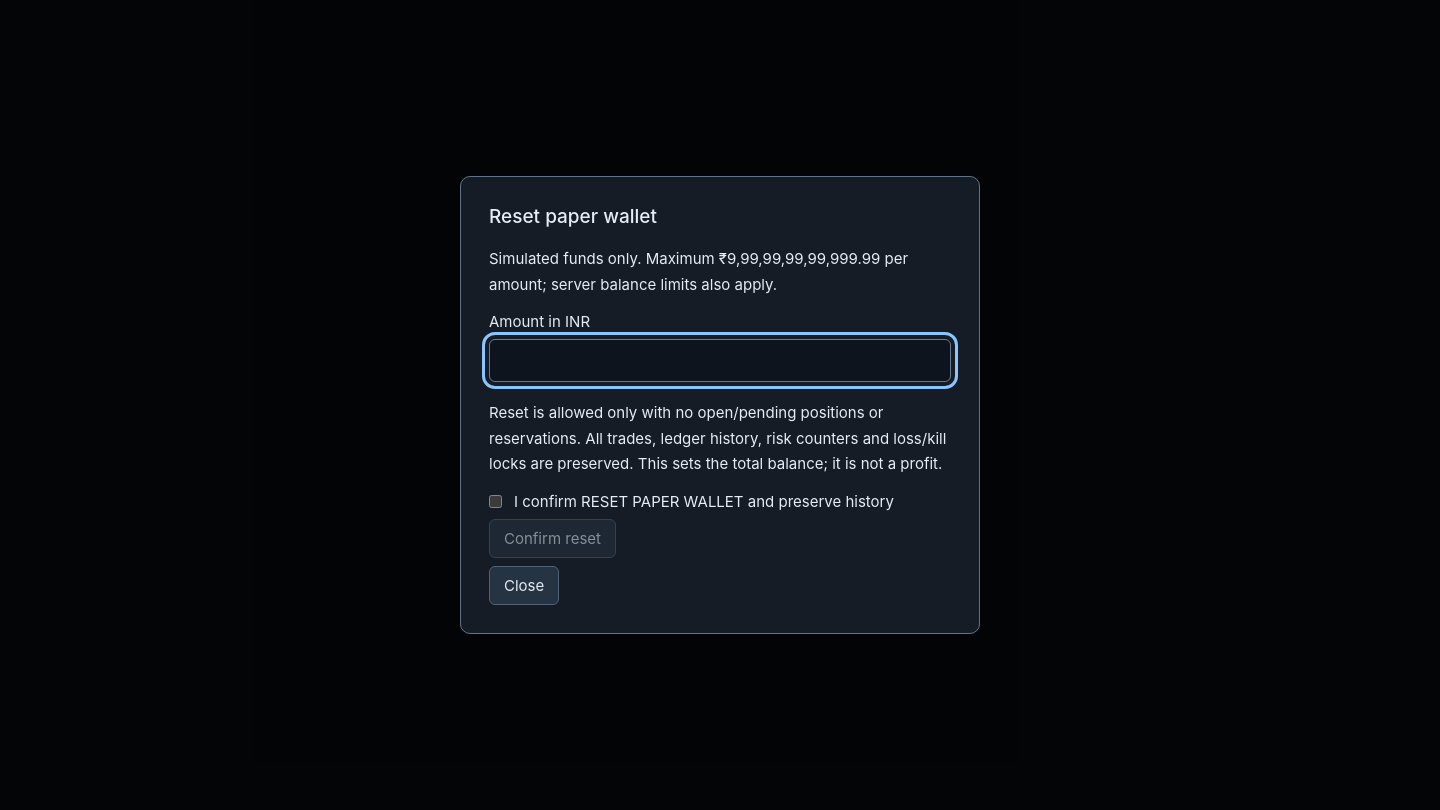
it: requires reset confirmation, permits zero and sends the exact API confirmation
Type "0.00" into the field labelled "Amount in INR" at {"x": 720, "y": 361}, box [489,339,951,382]
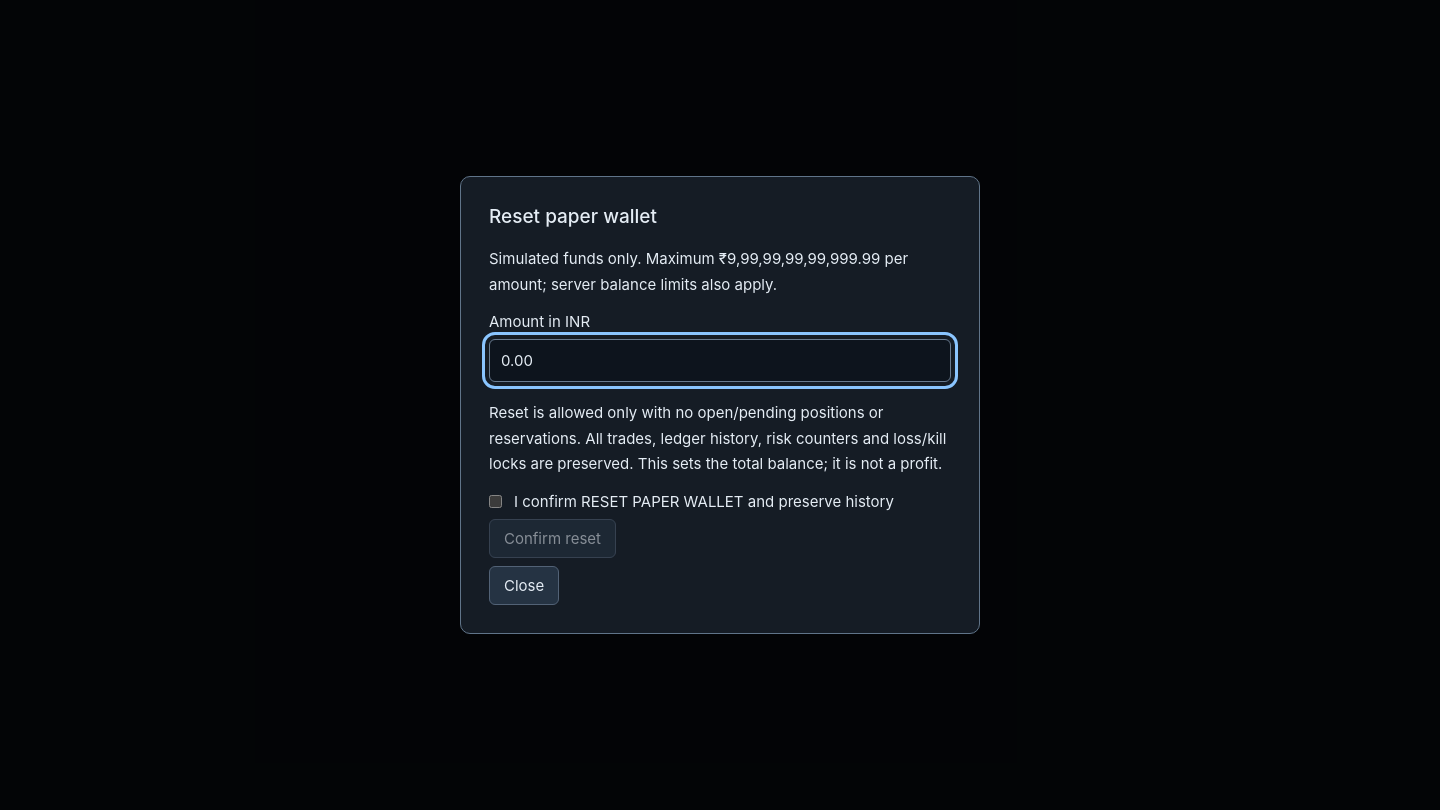
Click the button "Confirm reset" at {"x": 552, "y": 538}, box [489,519,616,558]
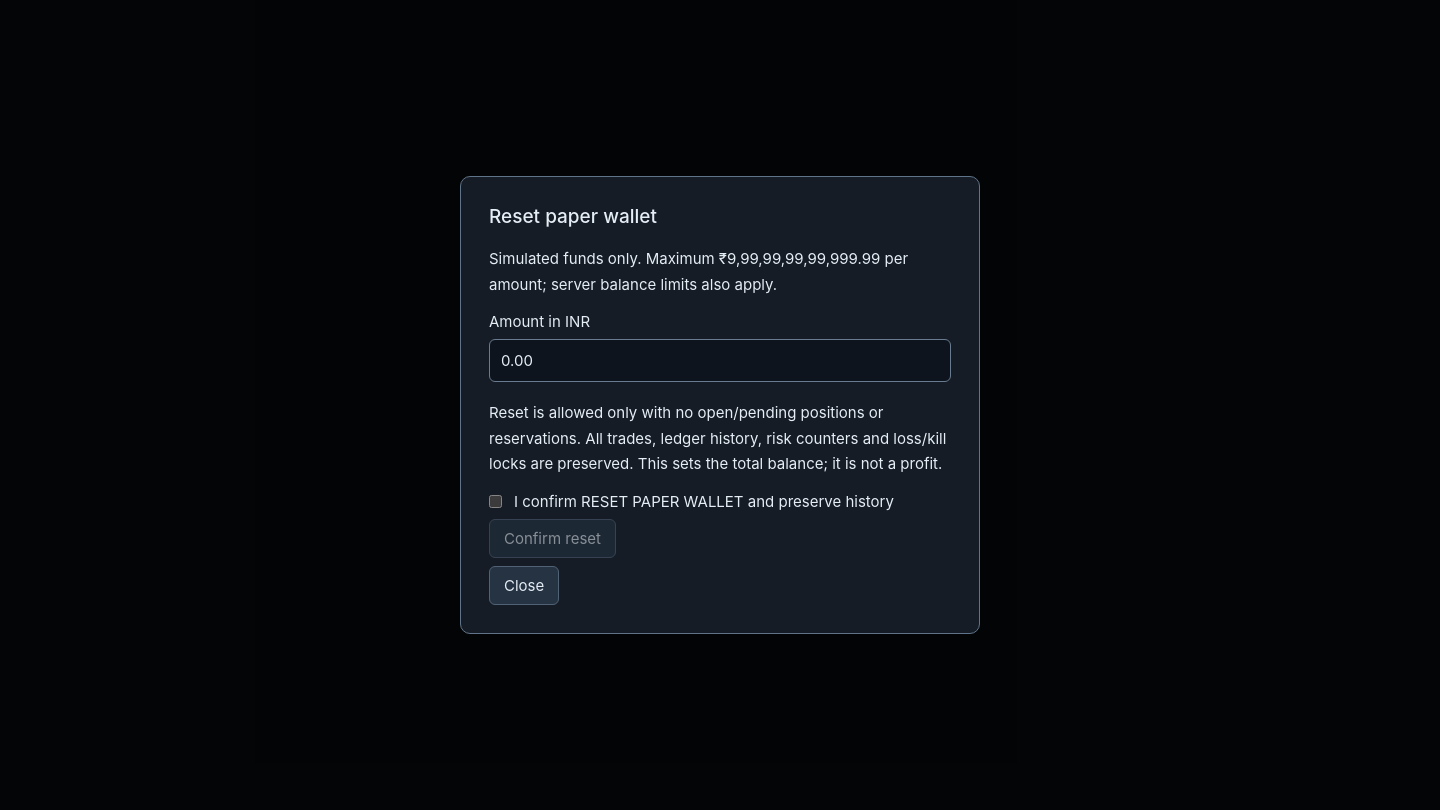
Click the checkbox at {"x": 496, "y": 501}, box [489,495,502,508]
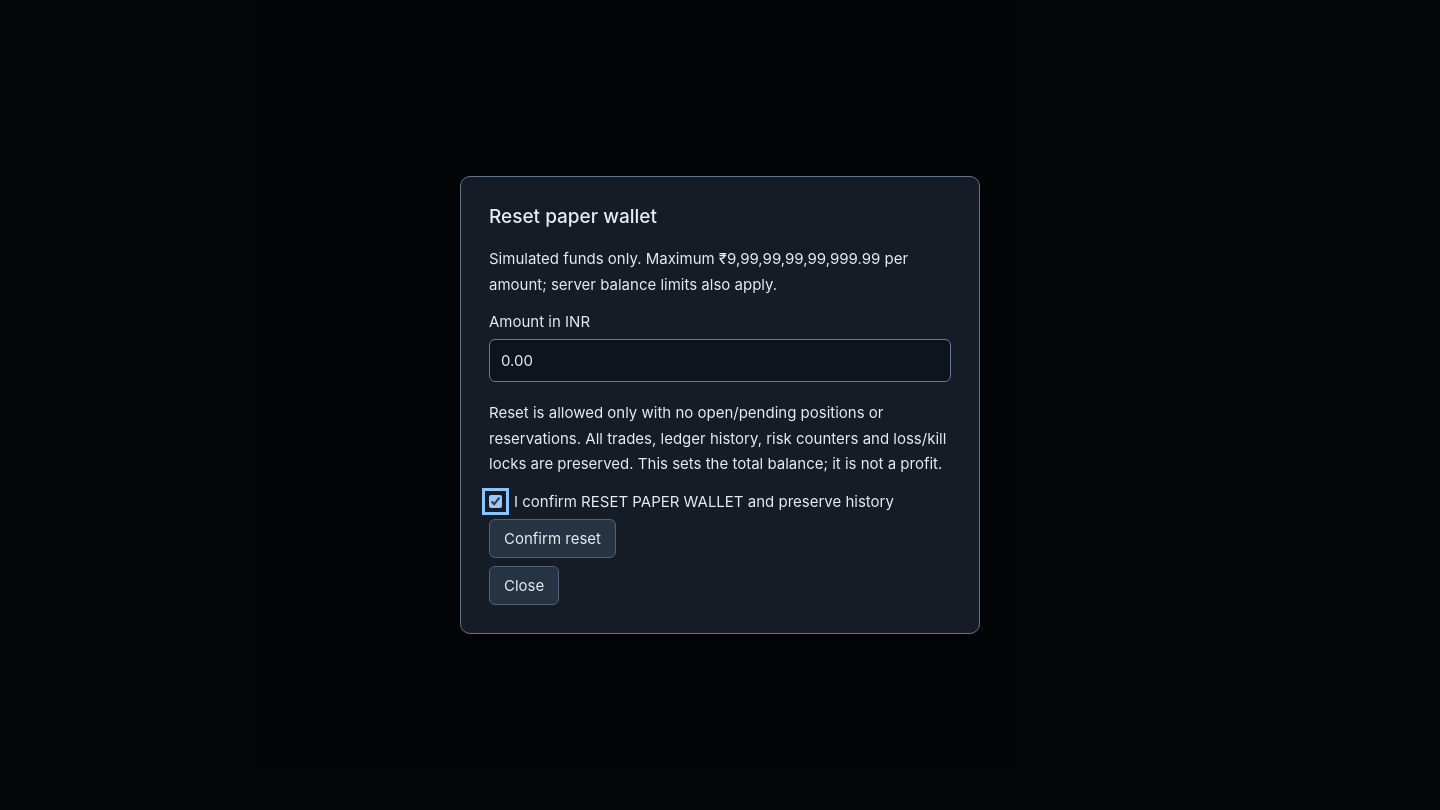
Click the button "Confirm reset" at {"x": 552, "y": 538}, box [489,519,616,558]
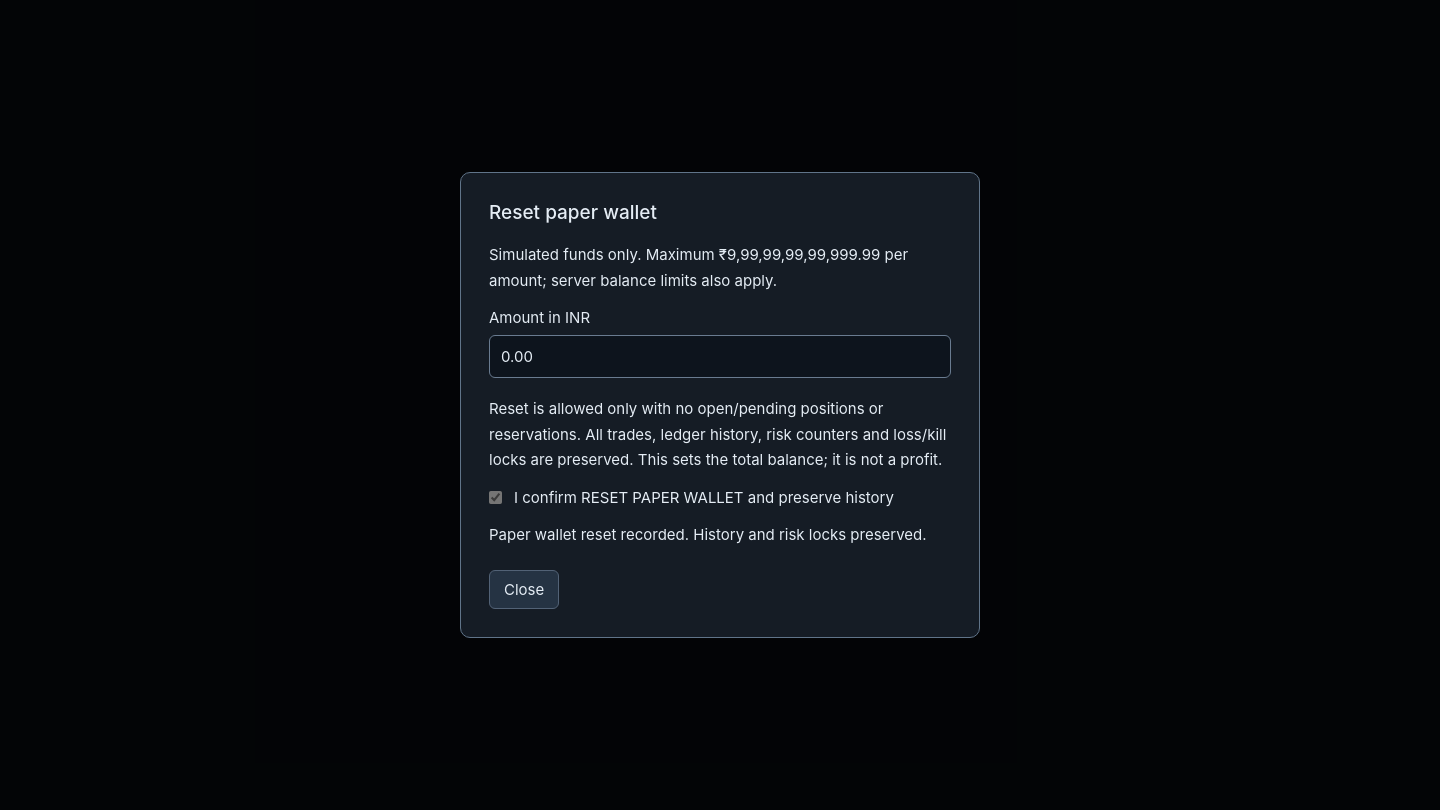
Check: the text "Paper wallet reset recorded. History and risk locks preserved." is shown, box [489,522,951,547]
